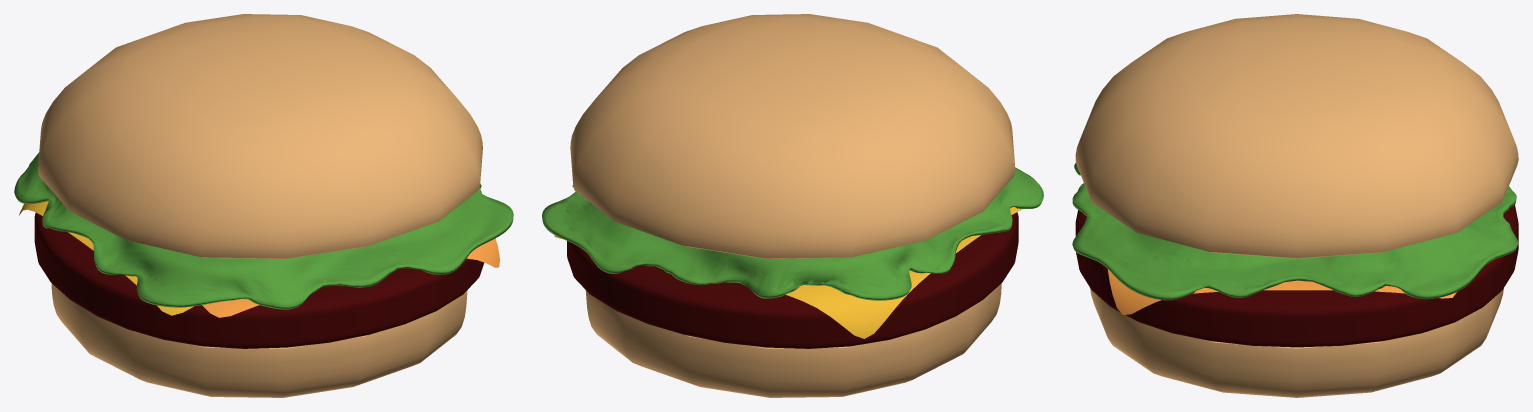
The model's file is burguer.glb.
The picture shows the model from 3 angles, left to right: view 1: azimuth 30°, elevation 25°; view 2: azimuth 150°, elevation 25°; view 3: azimuth 270°, elevation 25°; orthographic projection.
Parts seen in each view (by area): view 1: Cube.001, Plane.002, Cube.002, Cube, Plane.001, Plane; view 2: Cube.001, Cube.002, Cube, Plane.002, Plane; view 3: Cube.001, Plane.002, Cube, Cube.002, Plane.001.
Boxes of the visible parts, x1,y1,x2,y2 form: Cube.001: [38, 14, 482, 258]; Plane.002: [14, 152, 513, 309]; Cube.002: [34, 213, 483, 348]; Cube: [51, 283, 467, 397]; Plane.001: [202, 238, 499, 317]; Plane: [19, 201, 193, 315]; Cube.001: [570, 14, 1015, 258]; Cube.002: [567, 212, 1018, 348]; Cube: [585, 283, 1001, 397]; Plane.002: [542, 167, 1043, 300]; Plane: [786, 207, 1022, 338]; Cube.001: [1075, 14, 1518, 258]; Plane.002: [1072, 163, 1518, 300]; Cube: [1090, 288, 1503, 397]; Cube.002: [1075, 205, 1518, 347]; Plane.001: [1107, 269, 1456, 315].
Bounding box in the file's own units: 1.95 × 1.34 × 1.97.
